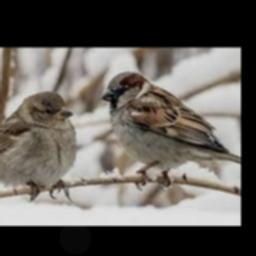Sparrow: (101, 71, 241, 190), (0, 91, 77, 203)
